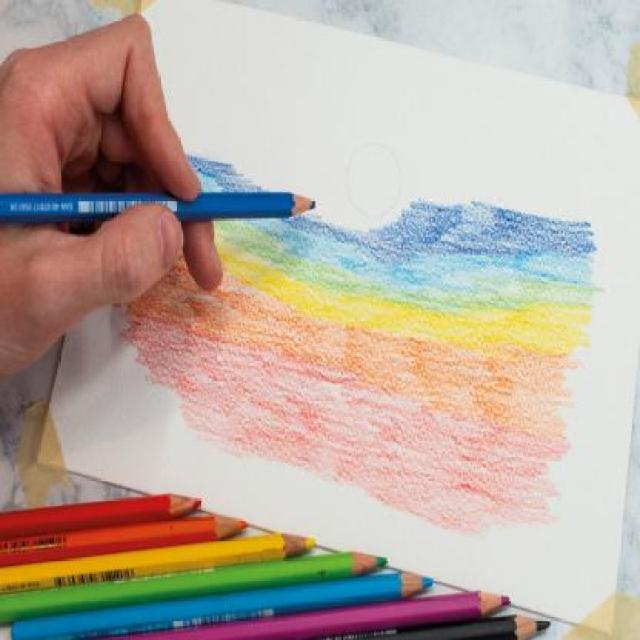pencil: (272, 172, 324, 240), (153, 474, 205, 531), (467, 569, 519, 626), (386, 557, 440, 609), (336, 540, 394, 588), (267, 518, 319, 570), (198, 506, 254, 550)
